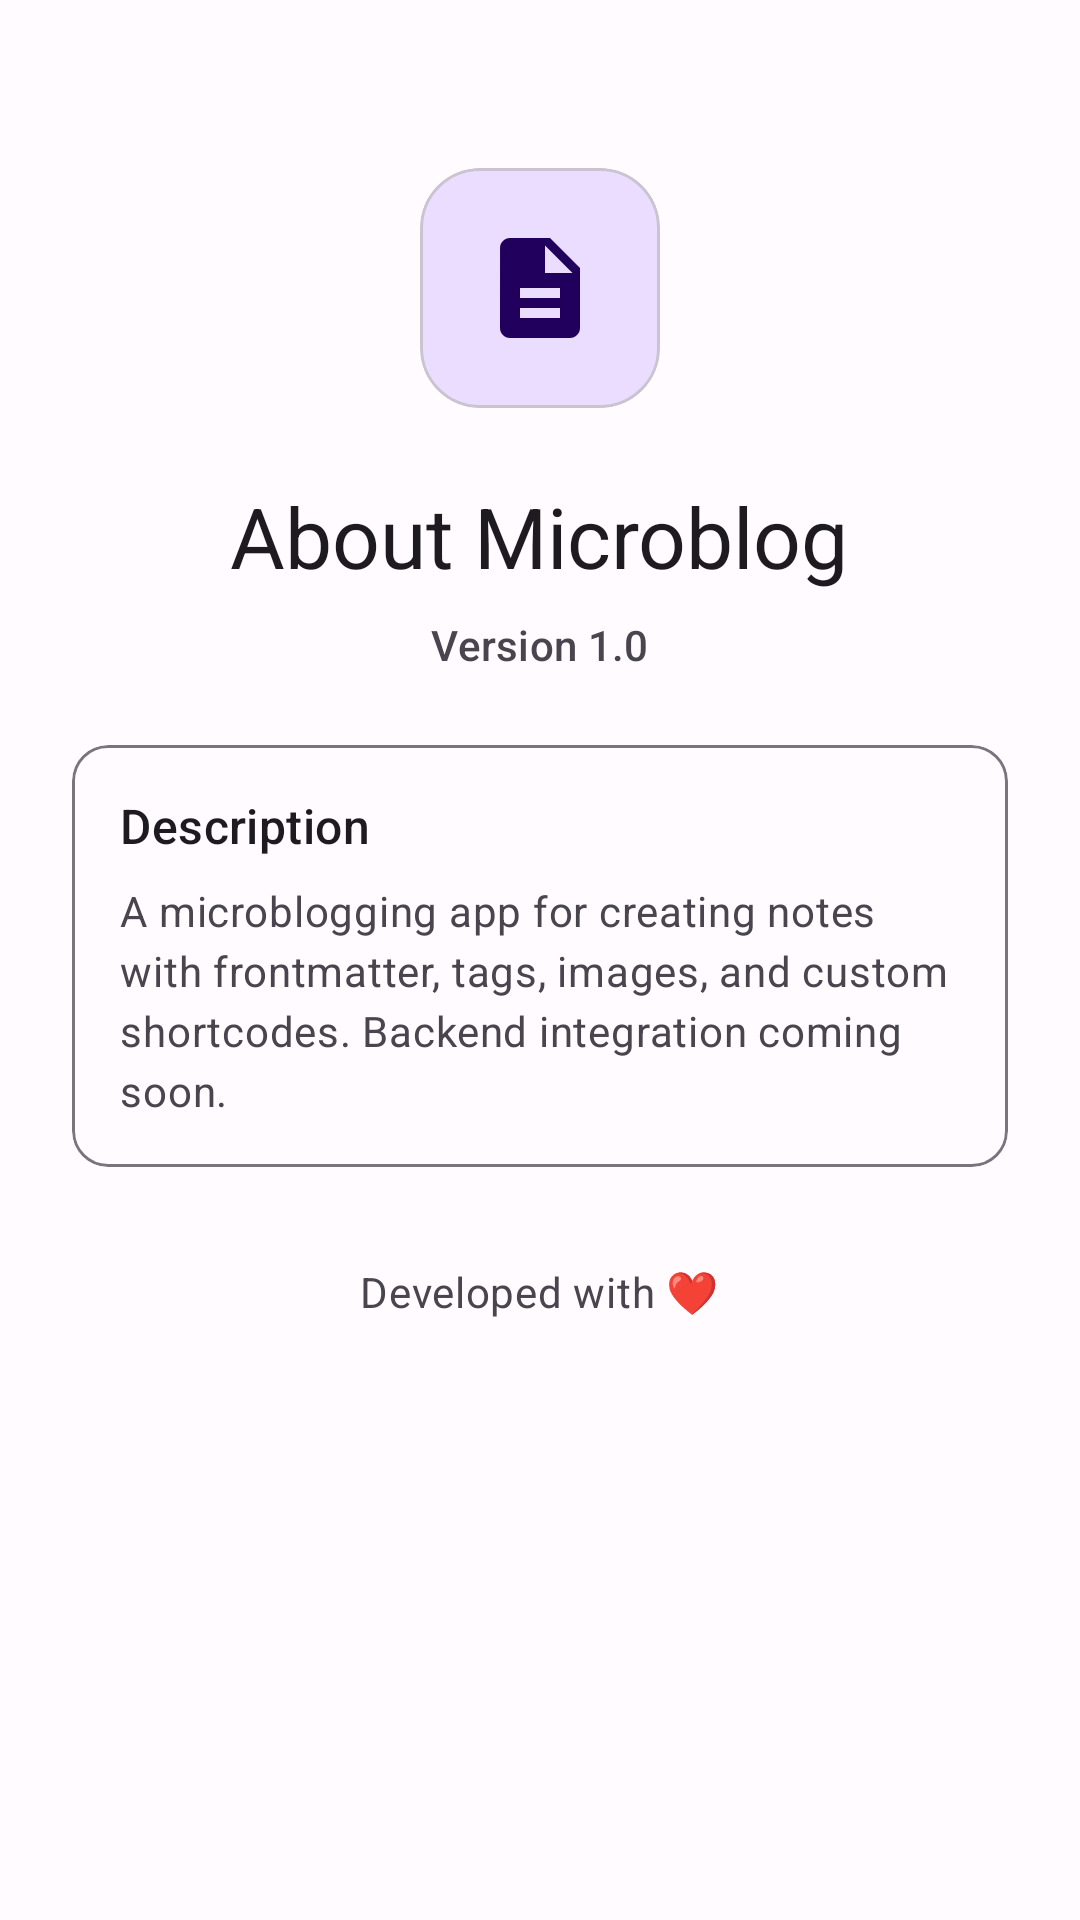

Screen size 1080*1920. Icon name, then its box in pixels as (x1, y1, x2, y2):
note: (500, 238, 580, 338)
